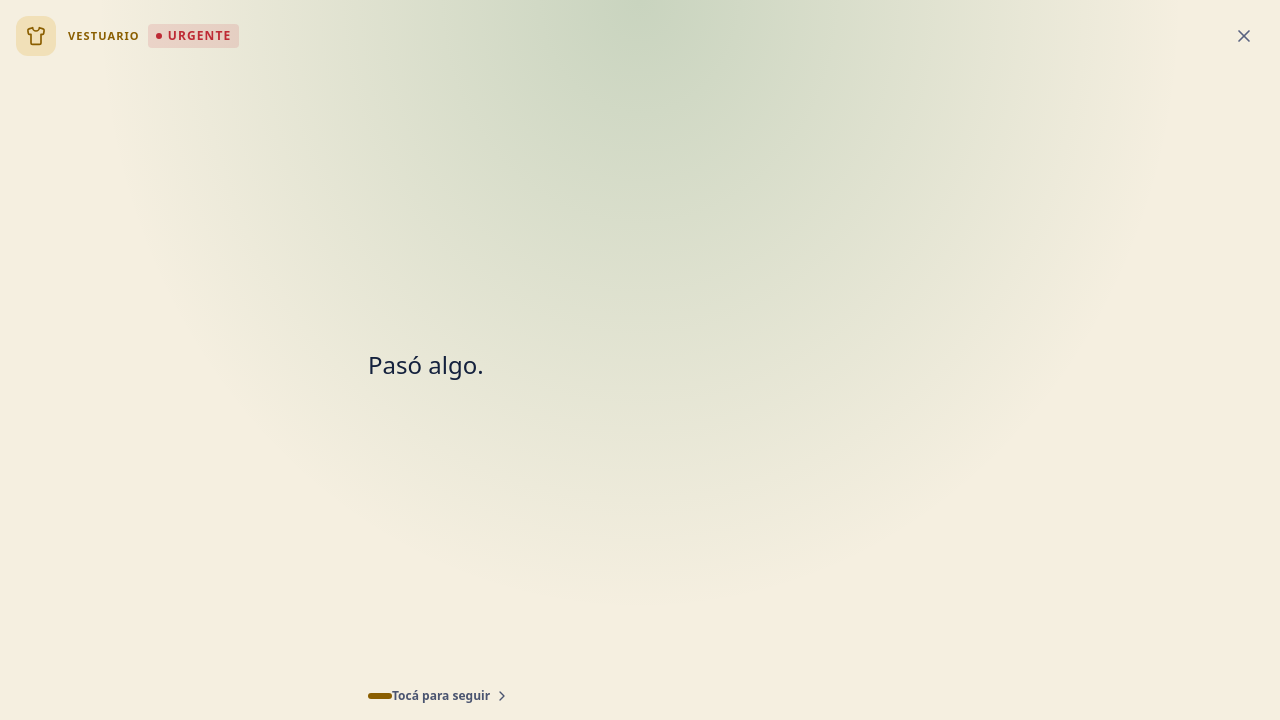
Test: decisiones pendientes del inicio › se abre sola a pantalla completa una sola: la urgente primero, y las demás quedan como filas con "Decidir"
This screenshot has width=1280, height=720.
// Dejarla para más tarde cierra la pantalla completa y NO abre la siguiente sola
Click the button named "Dejar para más tarde" at (1244, 36), box [1224, 16, 1264, 56]
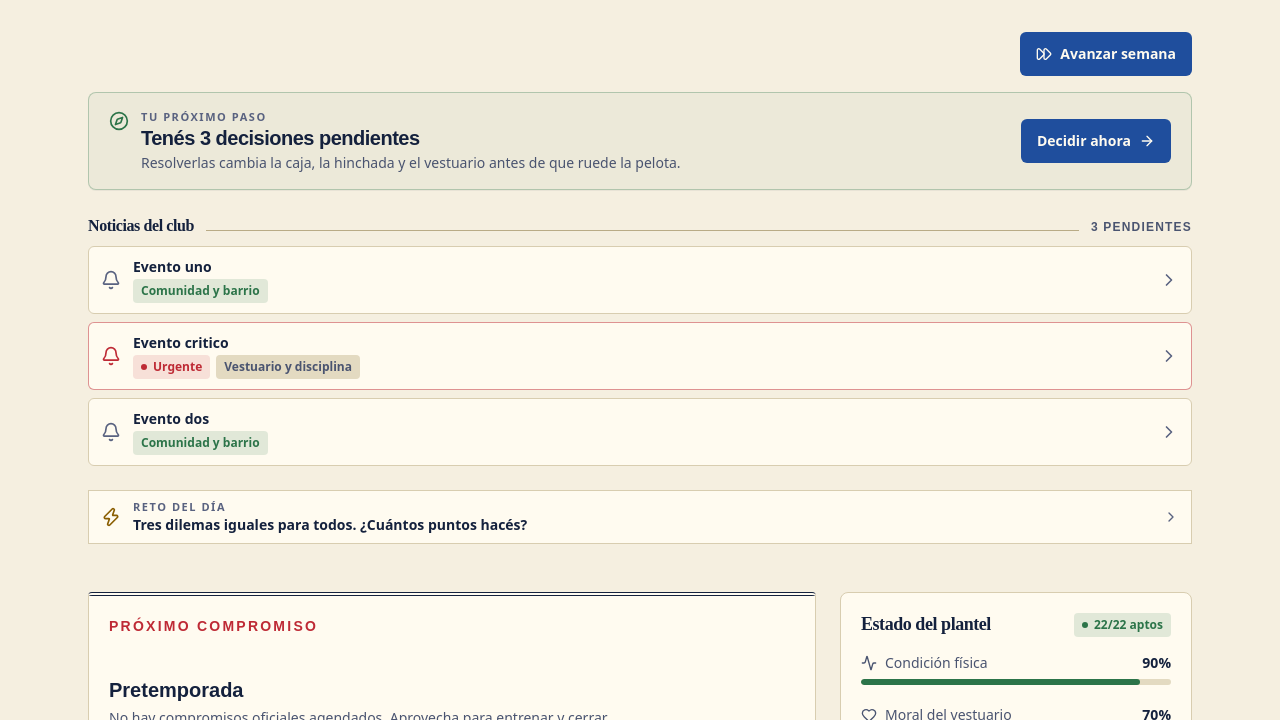
Expected: the number of list items is 3, [88, 246, 1192, 314]; [88, 322, 1192, 390]; [88, 398, 1192, 466]
Expected: the dialog is gone
